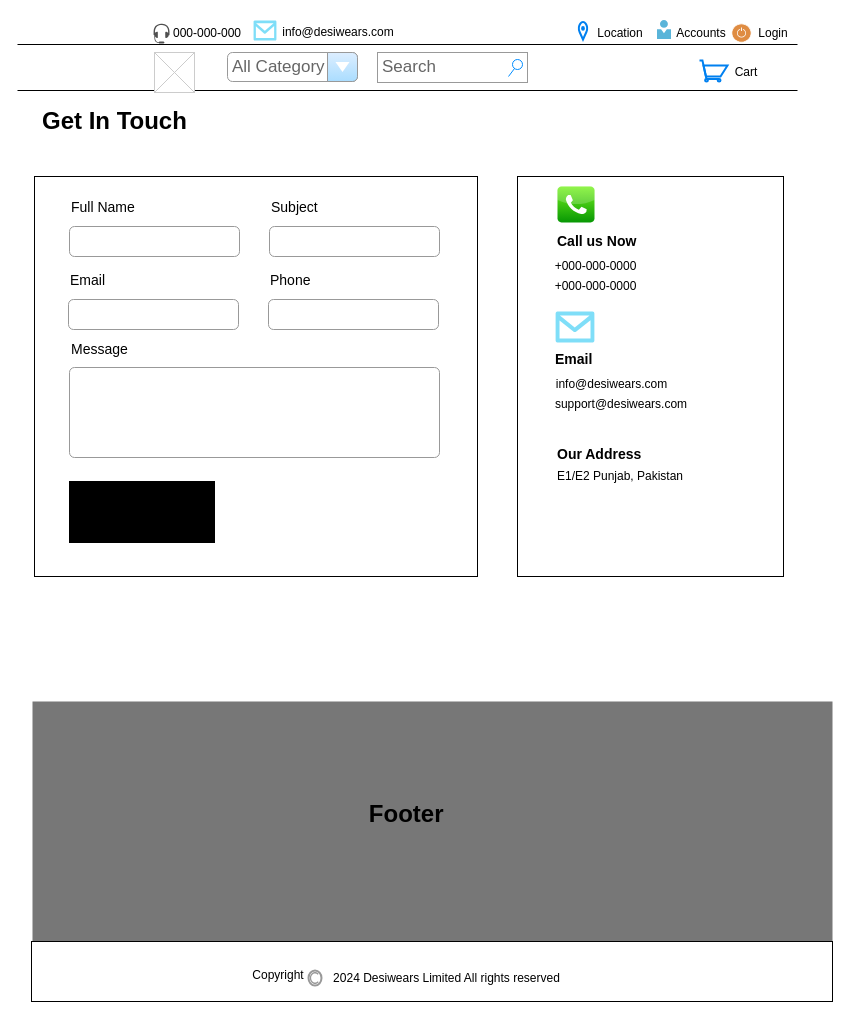
Some shapes in this 850 by 1019 pixel diagram are drawn without their labels. Each missing label, with the centre of its shape:
Logo: the point at 174,72
SEND MESSAGE: the point at 141,511
